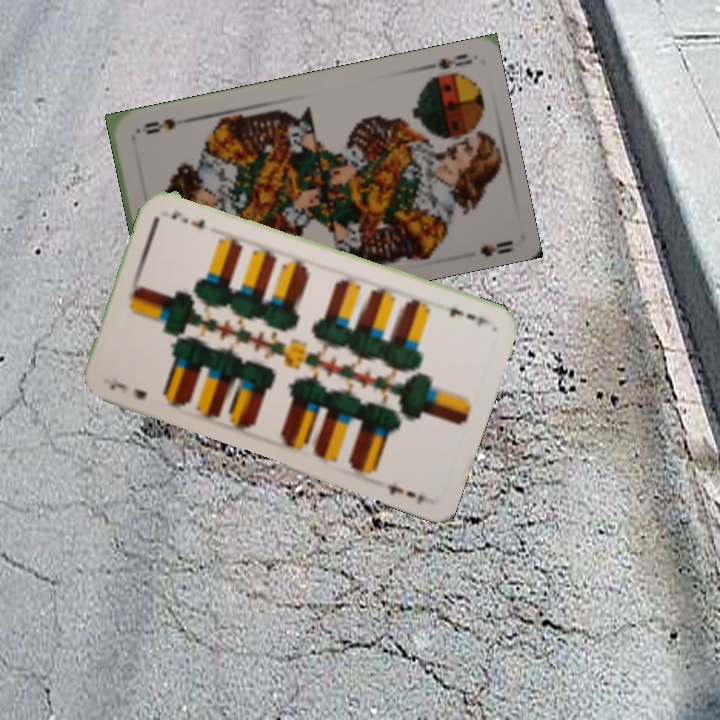E7: (444, 303, 494, 329), (105, 378, 149, 402)
SO: (416, 49, 476, 73)
